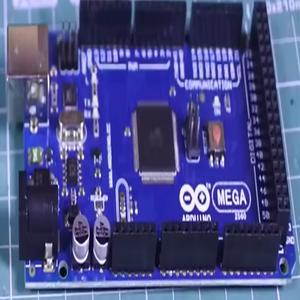duino: (4, 6, 292, 280)
